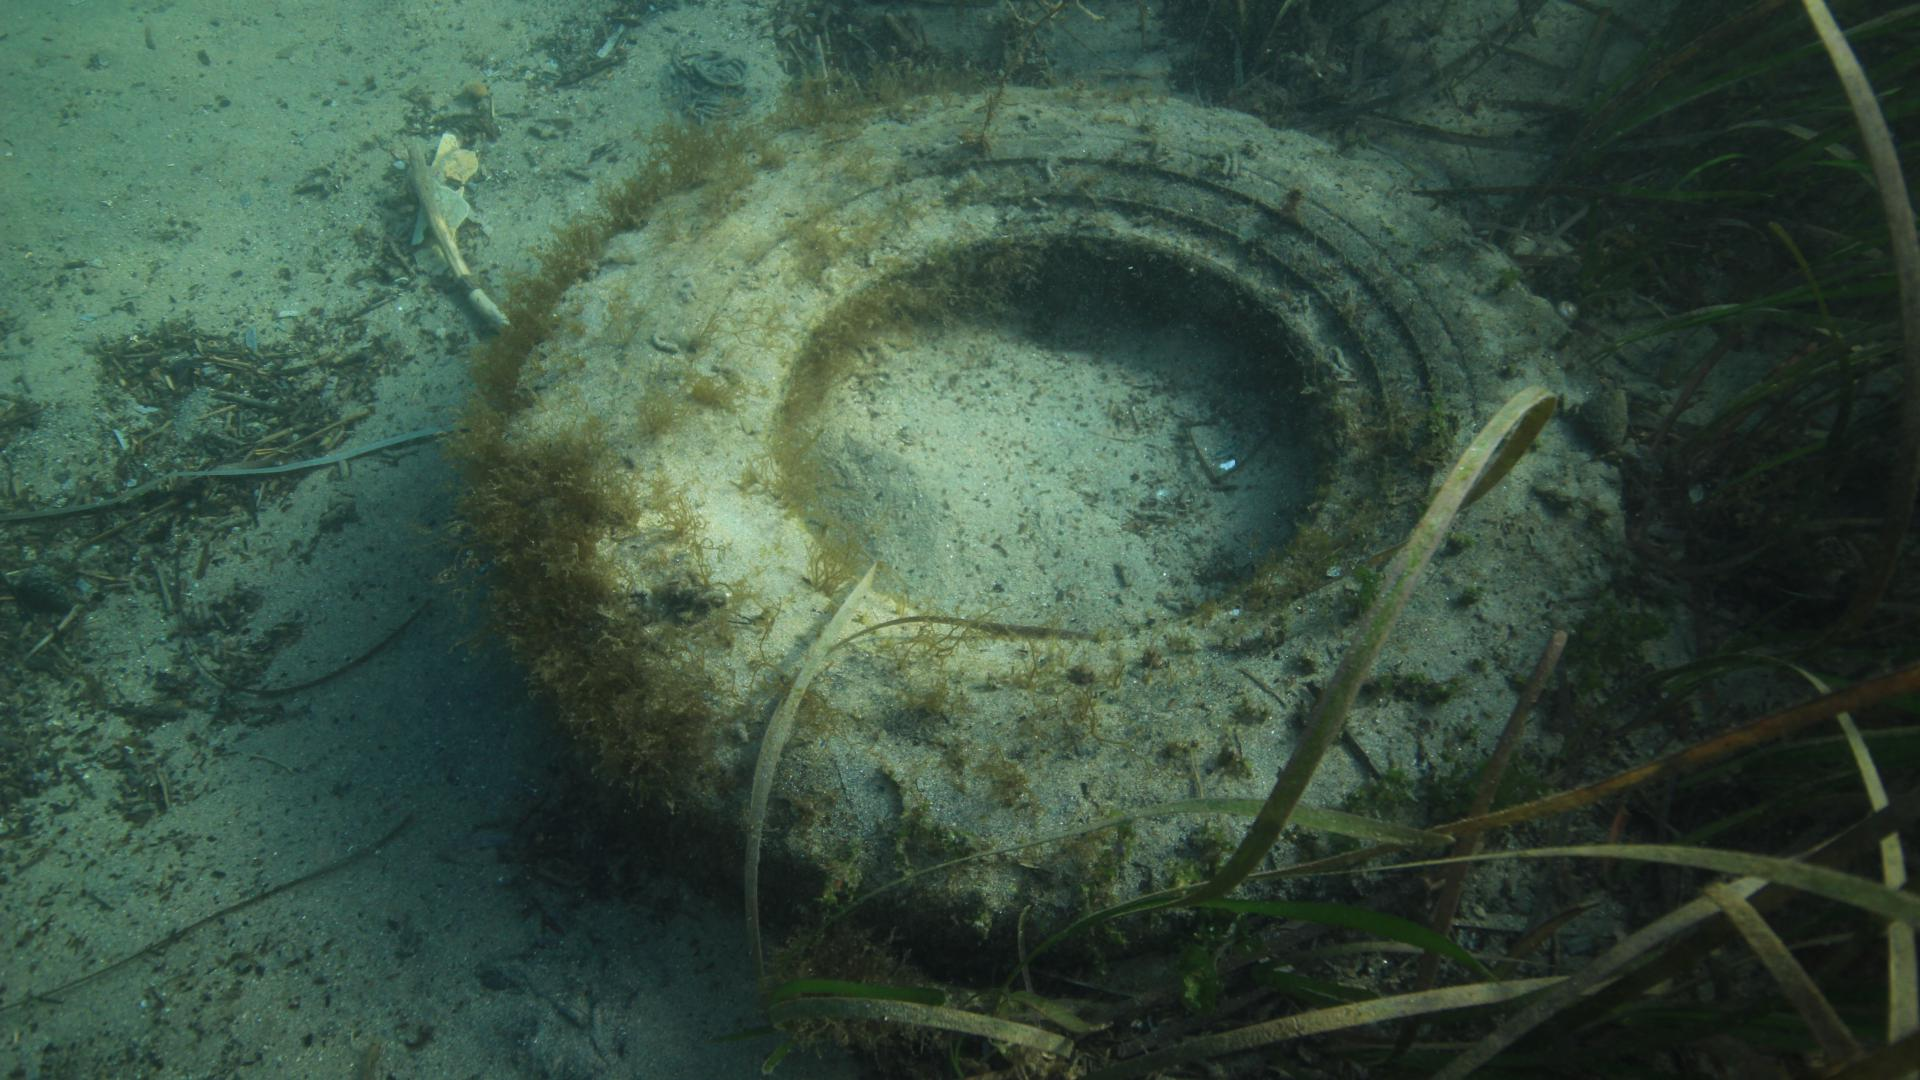tire: (496, 82, 1623, 988)
